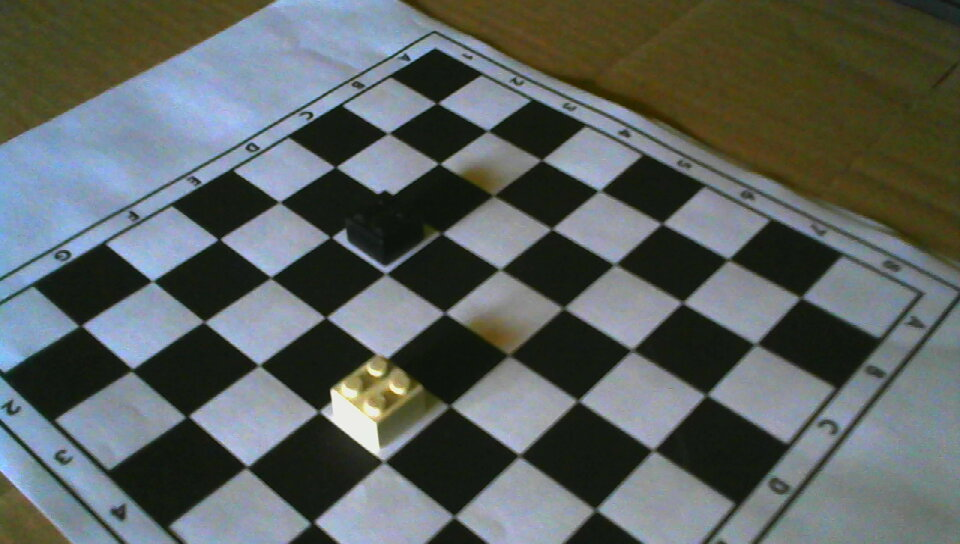bp: (346, 189, 423, 262)
wp: (327, 353, 427, 448)
